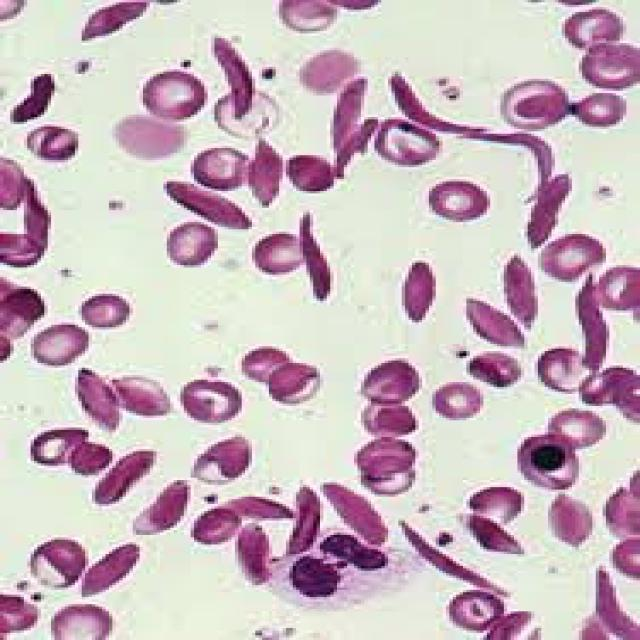RBC: (497, 70, 572, 132), (136, 67, 215, 122), (184, 144, 262, 194), (344, 432, 425, 480), (555, 5, 630, 55), (174, 378, 248, 428), (28, 318, 96, 372), (354, 356, 426, 406), (531, 346, 599, 396), (422, 177, 494, 224), (578, 40, 640, 93), (248, 229, 316, 277), (439, 590, 514, 633), (262, 361, 330, 408), (163, 220, 225, 270), (232, 344, 300, 387), (426, 380, 490, 425), (28, 428, 96, 470), (48, 602, 122, 640), (545, 406, 606, 451), (272, 0, 344, 36), (569, 93, 633, 131), (78, 292, 136, 330)
WBC: (255, 514, 436, 612)
sickle cell: (392, 518, 524, 602), (384, 64, 494, 138), (466, 129, 562, 205), (558, 270, 623, 380), (85, 442, 160, 513), (204, 33, 262, 122), (497, 253, 555, 337), (293, 208, 340, 306), (582, 563, 640, 640), (463, 294, 534, 353), (327, 74, 371, 158), (71, 0, 153, 45), (17, 172, 58, 260), (228, 520, 279, 590), (330, 112, 381, 182), (286, 485, 323, 556)
